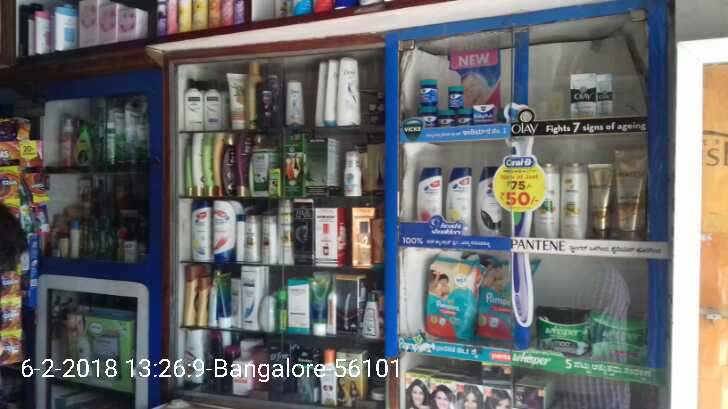beauty: (442, 168, 476, 234), (559, 164, 586, 240), (586, 160, 609, 235), (416, 165, 444, 224), (571, 73, 597, 120), (595, 72, 616, 114)
pharmacy: (423, 256, 476, 342), (477, 262, 525, 348), (589, 315, 650, 368), (534, 306, 590, 359), (473, 102, 500, 127), (417, 76, 440, 105), (445, 85, 465, 108), (438, 112, 453, 136)
